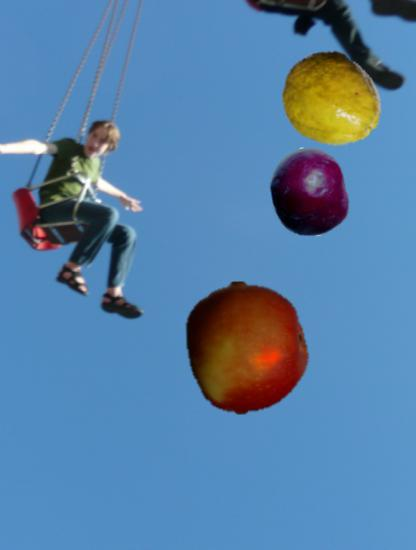Apple: (181, 281, 315, 415)
Guava: (281, 46, 386, 151)
Plum: (264, 147, 355, 238)
